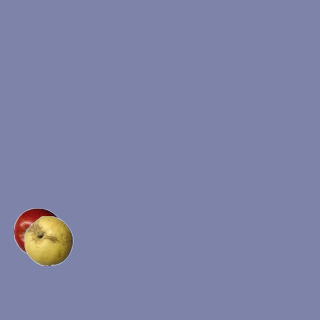Apple Braeburn: (13, 207, 63, 257)
Apple Golden 1: (23, 215, 73, 265)
